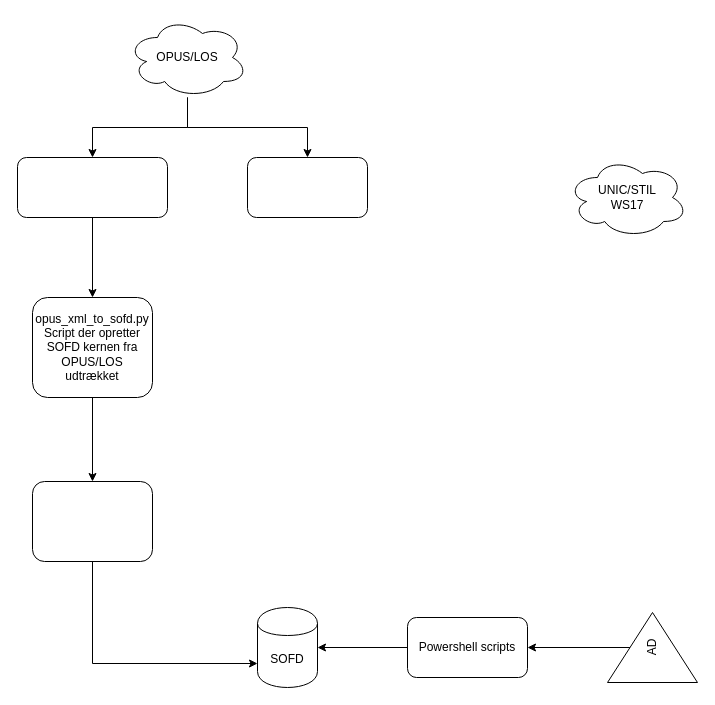
Some shapes in this 715 by 705 pixel diagram are drawn without their labels. The centre of each missing label's shape, as x and y in pixels:
"setup_sofd.py Opsætning af vores egen forretningsviden og forbindelser" goes at pixel 92 521.
"SVKFS1 FRA_KMD/Ferietimer KFS-udtræk" goes at pixel 307 187.
"SVKFS1 FRA_KMD/Medarbejder XML" goes at pixel 92 187.
